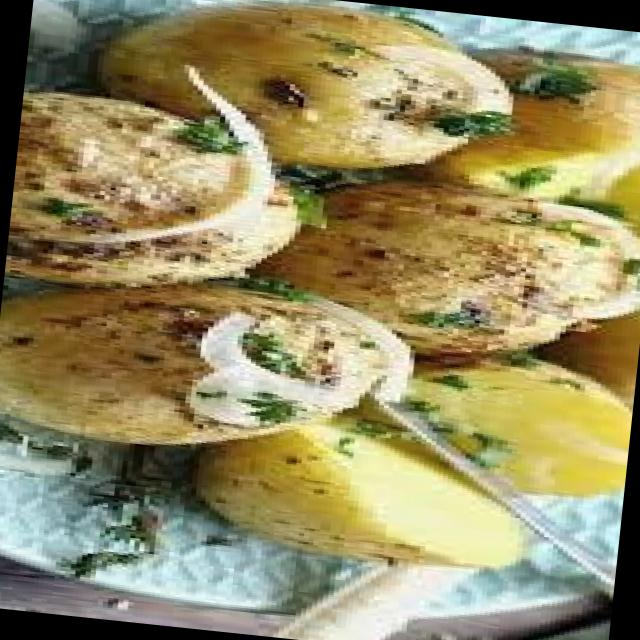Onion: (177, 312, 373, 441)
Potato: (0, 254, 449, 480), (81, 0, 522, 185), (281, 163, 640, 383), (2, 76, 332, 313), (172, 410, 558, 588), (435, 34, 640, 216), (396, 352, 636, 504), (517, 260, 640, 443)
